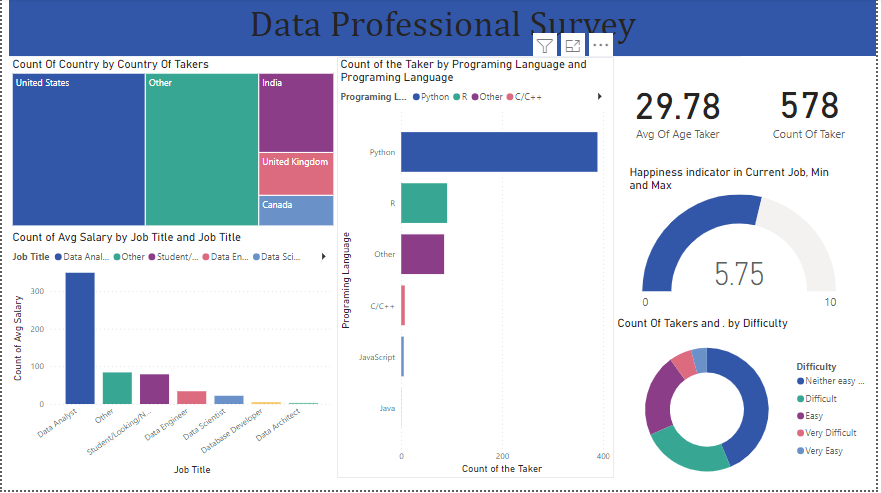

The dashboard page shown, as its layout file describes it:
{"tool":"powerbi","page":{"name":"Page 1","canvas":[1280,720],"ordinal":0},"visuals":[{"type":"textbox","box":[10.1,0,1269.9,85],"z":0},{"type":"card","fields":{"Values":["CountNonNull(Data Professional Survey.Unique ID)"]},"box":[1081.6,85,198.4,150.7],"z":1},{"type":"card","fields":{"Values":["Avg(Data Professional Survey.Q10 - Current Age)"]},"box":[895.1,86.5,186.5,149.2],"z":2},{"type":"treemap","fields":{"Group":["Data Professional Survey.Q11 - Which Country do you live in?.1"],"Values":["CountNonNull(Data Professional Survey.Q11 - Which Country do you live in?.1)"]},"box":[10.4,86.5,480.4,252.1],"z":3},{"type":"barChart","fields":{"Category":["Data Professional Survey.Q5 - Favorite Programming Language.1"],"Y":["CountNonNull(Data Professional Survey.Q5 - Favorite Programming Language.1)"],"Series":["Data Professional Survey.Q5 - Favorite Programming Language.1"]},"box":[490.8,86.5,404.3,616.1],"z":4},{"type":"columnChart","fields":{"Category":["Data Professional Survey.Q1 - Which Title Best Fits your Current Role?.1"],"Y":["CountNonNull(Data Professional Survey.Avg Salary)"],"Series":["Data Professional Survey.Q1 - Which Title Best Fits your Current Role?.1"]},"box":[10,339,480,364],"z":5},{"type":"gauge","fields":{"Y":["Avg(Data Professional Survey.Q6 - How Happy are you in your Current Position with the following? (Work/Life Balance))"],"MinValue":["Min(Data Professional Survey.Q6 - How Happy are you in your Current Position with the following? (Work/Life Balance))"],"MaxValue":["Max(Data Professional Survey.Q6 - How Happy are you in your Current Position with the following? (Work/Life Balance))"]},"box":[913,244.7,331.2,220.8],"z":6},{"type":"donutChart","fields":{"Category":["Data Professional Survey.Q7 - How difficult was it for you to break into Data?"],"Y":["CountNonNull(Data Professional Survey.Q7 - How difficult was it for you to break into Data?)"]},"box":[895.1,465.5,384.9,255.1],"z":7}]}

Visuals, with their boxes on the page's 1280x720 design canvas (x1, y1, x2, y2). These are canvas units, not pixel positions in the 881x493 screenshot, which may show the page scaled, cropped or inside an application window:
textbox: bbox=[10, 0, 1280, 85]
card - CountNonNull(Data Professional Survey.Unique ID): bbox=[1082, 85, 1280, 236]
card - Avg(Data Professional Survey.Q10 - Current Age): bbox=[895, 86, 1082, 236]
treemap - Data Professional Survey.Q11 - Which Country do you live in?.1 x CountNonNull(Data Professional Survey.Q11 - Which Country do you live in?.1): bbox=[10, 86, 491, 339]
barChart - Data Professional Survey.Q5 - Favorite Programming Language.1 x CountNonNull(Data Professional Survey.Q5 - Favorite Programming Language.1): bbox=[491, 86, 895, 703]
columnChart - Data Professional Survey.Q1 - Which Title Best Fits your Current Role?.1 x CountNonNull(Data Professional Survey.Avg Salary): bbox=[10, 339, 490, 703]
gauge - Avg(Data Professional Survey.Q6 - How Happy are you in your Current Position with the following? (Work/Life Balance)) x Min(Data Professional Survey.Q6 - How Happy are you in your Current Position with the following? (Work/Life Balance)): bbox=[913, 245, 1244, 466]
donutChart - Data Professional Survey.Q7 - How difficult was it for you to break into Data? x CountNonNull(Data Professional Survey.Q7 - How difficult was it for you to break into Data?): bbox=[895, 466, 1280, 721]
